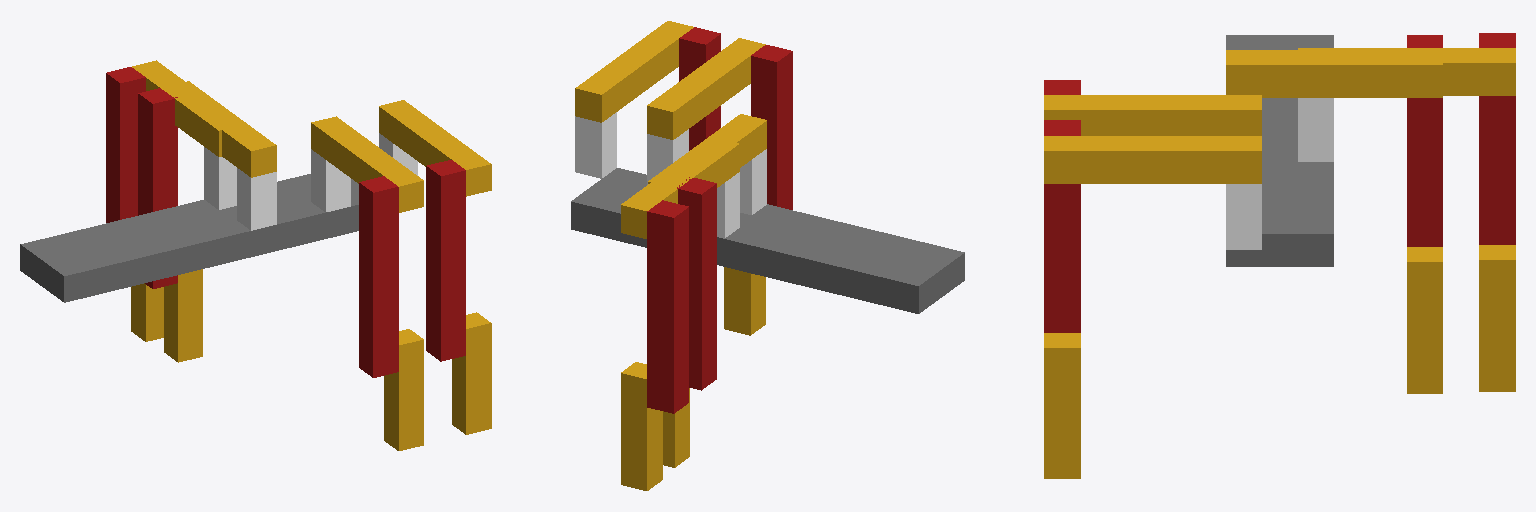
The robot description file, URDF, robot "v0":
<?xml version="1.0" encoding="utf-8"?>
<!-- =================================================================================== -->
<!-- |    This document was autogenerated by xacro from ../robots/v0variants/xacros/v0_4l_9.xacro | -->
<!-- |    EDITING THIS FILE BY HAND IS NOT RECOMMENDED                                 | -->
<!-- =================================================================================== -->
<robot name="v0">
  <material name="grey">
    <color rgba="0.5 0.5 0.5 1"/>
  </material>
  <material name="white">
    <color rgba="1 1 1 1"/>
  </material>
  <material name="yellow">
    <color rgba="0.91 0.7 0.14 1"/>
  </material>
  <material name="red">
    <color rgba="0.71 0.14 0.14 1"/>
  </material>
  <link name="body">
    <visual>
      <geometry>
        <box size="1.3 0.3 0.1"/>
      </geometry>
      <material name="grey"/>
      <origin rpy="0 0 0" xyz="0 0 0.7"/>
    </visual>
    <collision>
      <geometry>
        <box size="1.3 0.3 0.1"/>
      </geometry>
      <origin rpy="0 0 0" xyz="0 0 0.7"/>
    </collision>
    <inertial>
      <mass value="99.84"/>
      <inertia ixx="0.832" ixy="0.0" ixz="0.0" iyy="14.144" iyz="0.0" izz="14.8096"/>
    </inertial>
  </link>
  <link name="l1_segment_1">
    <visual>
      <geometry>
        <box size="0.1 0.1 0.2"/>
      </geometry>
      <material name="white"/>
      <origin rpy="0 0 0" xyz="0 0 0.1"/>
    </visual>
    <collision>
      <geometry>
        <box size="0.1 0.1 0.2"/>
      </geometry>
      <origin rpy="0 0 0" xyz="0 0 0.1"/>
    </collision>
    <inertial>
      <mass value="5.12"/>
      <inertia ixx="0.0213333333333" ixy="0.0" ixz="0.0" iyy="0.0213333333333" iyz="0.0" izz="0.00853333333333"/>
    </inertial>
  </link>
  <joint name="l1_base_to_joint_1" type="fixed">
    <parent link="body"/>
    <child link="l1_segment_1"/>
    <origin rpy="0 0 0" xyz="0.13859418409755442 -0.1 0.75"/>
  </joint>
  <link name="l1_segment_2_HIP">
    <visual>
      <geometry>
        <box size="0.1 0.6 0.1"/>
      </geometry>
      <material name="yellow"/>
      <origin rpy="0 0 0" xyz="0 0.25 0"/>
    </visual>
    <collision>
      <geometry>
        <box size="0.1 0.6 0.1"/>
      </geometry>
      <origin rpy="0 0 0" xyz="0 0.25 0"/>
    </collision>
    <inertial>
      <mass value="15.36"/>
      <inertia ixx="0.4736" ixy="0.0" ixz="0.0" iyy="0.0256" iyz="0.0" izz="0.4736"/>
    </inertial>
  </link>
  <joint name="l1_joint_1_to_2" type="revolute">
    <parent link="l1_segment_1"/>
    <child link="l1_segment_2_HIP"/>
    <origin rpy="0 0 0" xyz="0 0 0.25"/>
    <axis xyz="0.0 0.0 1.0"/>
    <limit effort="2048" lower="-1.2" upper="1.2" velocity="20"/>
  </joint>
  <link name="l1_segment_3_THIGH">
    <visual>
      <geometry>
        <box size="0.1 0.1 0.7"/>
      </geometry>
      <material name="red"/>
      <origin rpy="0 0 0" xyz="0 0 -0.3"/>
    </visual>
    <collision>
      <geometry>
        <box size="0.1 0.1 0.7"/>
      </geometry>
      <origin rpy="0 0 0" xyz="0 0 -0.3"/>
    </collision>
    <inertial>
      <mass value="17.92"/>
      <inertia ixx="0.746666666667" ixy="0.0" ixz="0.0" iyy="0.746666666667" iyz="0.0" izz="0.0298666666667"/>
    </inertial>
  </link>
  <joint name="l1_joint_2_to_3" type="revolute">
    <parent link="l1_segment_2_HIP"/>
    <child link="l1_segment_3_THIGH"/>
    <origin rpy="0 0 0" xyz="-0.1 0.5 0"/>
    <axis xyz="1.0 0.0 0.0"/>
    <limit effort="2048" lower="-0.2" upper="0.75" velocity="20"/>
  </joint>
  <link name="l1_segment_4_FOOT">
    <visual>
      <geometry>
        <box size="0.1 0.1 0.4"/>
      </geometry>
      <material name="yellow"/>
      <origin rpy="0 0 0" xyz="0 0 -0.2"/>
    </visual>
    <collision>
      <geometry>
        <box size="0.1 0.1 0.4"/>
      </geometry>
      <origin rpy="0 0 0" xyz="0 0 -0.2"/>
    </collision>
    <inertial>
      <mass value="10.24"/>
      <inertia ixx="0.145066666667" ixy="0.0" ixz="0.0" iyy="0.145066666667" iyz="0.0" izz="0.0170666666667"/>
    </inertial>
  </link>
  <joint name="l1_joint_3_to_4_FOOT" type="revolute">
    <parent link="l1_segment_3_THIGH"/>
    <child link="l1_segment_4_FOOT"/>
    <origin rpy="0 0 0" xyz="0.1 0 -0.55"/>
    <axis xyz="1.0 0.0 0.0"/>
    <limit effort="2048" lower="-0.2" upper="0.5" velocity="20"/>
  </joint>
  <link name="r2_segment_1">
    <visual>
      <geometry>
        <box size="0.1 0.1 0.2"/>
      </geometry>
      <material name="white"/>
      <origin rpy="0 0 0" xyz="0 0 0.1"/>
    </visual>
    <collision>
      <geometry>
        <box size="0.1 0.1 0.2"/>
      </geometry>
      <origin rpy="0 0 0" xyz="0 0 0.1"/>
    </collision>
    <inertial>
      <mass value="5.12"/>
      <inertia ixx="0.0213333333333" ixy="0.0" ixz="0.0" iyy="0.0213333333333" iyz="0.0" izz="0.00853333333333"/>
    </inertial>
  </link>
  <joint name="r2_base_to_joint_1" type="fixed">
    <parent link="body"/>
    <child link="r2_segment_1"/>
    <origin rpy="0 0 0" xyz="0.4325944631051284 -0.1 0.75"/>
  </joint>
  <link name="r2_segment_2_HIP">
    <visual>
      <geometry>
        <box size="0.1 0.6 0.1"/>
      </geometry>
      <material name="yellow"/>
      <origin rpy="0 0 0" xyz="0 -0.25 0"/>
    </visual>
    <collision>
      <geometry>
        <box size="0.1 0.6 0.1"/>
      </geometry>
      <origin rpy="0 0 0" xyz="0 -0.25 0"/>
    </collision>
    <inertial>
      <mass value="15.36"/>
      <inertia ixx="0.4736" ixy="0.0" ixz="0.0" iyy="0.0256" iyz="0.0" izz="0.4736"/>
    </inertial>
  </link>
  <joint name="r2_joint_1_to_2" type="revolute">
    <parent link="r2_segment_1"/>
    <child link="r2_segment_2_HIP"/>
    <origin rpy="0 0 0" xyz="0 0 0.25"/>
    <axis xyz="0.0 0.0 1.0"/>
    <limit effort="2048" lower="-1.2" upper="1.2" velocity="20"/>
  </joint>
  <link name="r2_segment_3_THIGH">
    <visual>
      <geometry>
        <box size="0.1 0.1 0.7"/>
      </geometry>
      <material name="red"/>
      <origin rpy="0 0 0" xyz="0 0 -0.3"/>
    </visual>
    <collision>
      <geometry>
        <box size="0.1 0.1 0.7"/>
      </geometry>
      <origin rpy="0 0 0" xyz="0 0 -0.3"/>
    </collision>
    <inertial>
      <mass value="17.92"/>
      <inertia ixx="0.746666666667" ixy="0.0" ixz="0.0" iyy="0.746666666667" iyz="0.0" izz="0.0298666666667"/>
    </inertial>
  </link>
  <joint name="r2_joint_2_to_3" type="revolute">
    <parent link="r2_segment_2_HIP"/>
    <child link="r2_segment_3_THIGH"/>
    <origin rpy="0 0 0" xyz="-0.1 -0.5 0"/>
    <axis xyz="1.0 0.0 0.0"/>
    <limit effort="2048" lower="-0.75" upper="0.2" velocity="20"/>
  </joint>
  <link name="r2_segment_4_FOOT">
    <visual>
      <geometry>
        <box size="0.1 0.1 0.4"/>
      </geometry>
      <material name="yellow"/>
      <origin rpy="0 0 0" xyz="0 0 -0.2"/>
    </visual>
    <collision>
      <geometry>
        <box size="0.1 0.1 0.4"/>
      </geometry>
      <origin rpy="0 0 0" xyz="0 0 -0.2"/>
    </collision>
    <inertial>
      <mass value="10.24"/>
      <inertia ixx="0.145066666667" ixy="0.0" ixz="0.0" iyy="0.145066666667" iyz="0.0" izz="0.0170666666667"/>
    </inertial>
  </link>
  <joint name="r2_joint_3_to_4_FOOT" type="revolute">
    <parent link="r2_segment_3_THIGH"/>
    <child link="r2_segment_4_FOOT"/>
    <origin rpy="0 0 0" xyz="0.1 0 -0.55"/>
    <axis xyz="1.0 0.0 0.0"/>
    <limit effort="2048" lower="-0.5" upper="0.2" velocity="20"/>
  </joint>
  <link name="l3_segment_1">
    <visual>
      <geometry>
        <box size="0.1 0.1 0.2"/>
      </geometry>
      <material name="white"/>
      <origin rpy="0 0 0" xyz="0 0 0.1"/>
    </visual>
    <collision>
      <geometry>
        <box size="0.1 0.1 0.2"/>
      </geometry>
      <origin rpy="0 0 0" xyz="0 0 0.1"/>
    </collision>
    <inertial>
      <mass value="5.12"/>
      <inertia ixx="0.0213333333333" ixy="0.0" ixz="0.0" iyy="0.0213333333333" iyz="0.0" izz="0.00853333333333"/>
    </inertial>
  </link>
  <joint name="l3_base_to_joint_1" type="fixed">
    <parent link="body"/>
    <child link="l3_segment_1"/>
    <origin rpy="0 0 0" xyz="0.12591115268739284 0.1 0.75"/>
  </joint>
  <link name="l3_segment_2_HIP">
    <visual>
      <geometry>
        <box size="0.1 0.6 0.1"/>
      </geometry>
      <material name="yellow"/>
      <origin rpy="0 0 0" xyz="0 0.25 0"/>
    </visual>
    <collision>
      <geometry>
        <box size="0.1 0.6 0.1"/>
      </geometry>
      <origin rpy="0 0 0" xyz="0 0.25 0"/>
    </collision>
    <inertial>
      <mass value="15.36"/>
      <inertia ixx="0.4736" ixy="0.0" ixz="0.0" iyy="0.0256" iyz="0.0" izz="0.4736"/>
    </inertial>
  </link>
  <joint name="l3_joint_1_to_2" type="revolute">
    <parent link="l3_segment_1"/>
    <child link="l3_segment_2_HIP"/>
    <origin rpy="0 0 0" xyz="0 0 0.25"/>
    <axis xyz="0.0 0.0 1.0"/>
    <limit effort="2048" lower="-1.2" upper="1.2" velocity="20"/>
  </joint>
  <link name="l3_segment_3_THIGH">
    <visual>
      <geometry>
        <box size="0.1 0.1 0.7"/>
      </geometry>
      <material name="red"/>
      <origin rpy="0 0 0" xyz="0 0 -0.3"/>
    </visual>
    <collision>
      <geometry>
        <box size="0.1 0.1 0.7"/>
      </geometry>
      <origin rpy="0 0 0" xyz="0 0 -0.3"/>
    </collision>
    <inertial>
      <mass value="17.92"/>
      <inertia ixx="0.746666666667" ixy="0.0" ixz="0.0" iyy="0.746666666667" iyz="0.0" izz="0.0298666666667"/>
    </inertial>
  </link>
  <joint name="l3_joint_2_to_3" type="revolute">
    <parent link="l3_segment_2_HIP"/>
    <child link="l3_segment_3_THIGH"/>
    <origin rpy="0 0 0" xyz="-0.1 0.5 0"/>
    <axis xyz="1.0 0.0 0.0"/>
    <limit effort="2048" lower="-0.2" upper="0.75" velocity="20"/>
  </joint>
  <link name="l3_segment_4_FOOT">
    <visual>
      <geometry>
        <box size="0.1 0.1 0.4"/>
      </geometry>
      <material name="yellow"/>
      <origin rpy="0 0 0" xyz="0 0 -0.2"/>
    </visual>
    <collision>
      <geometry>
        <box size="0.1 0.1 0.4"/>
      </geometry>
      <origin rpy="0 0 0" xyz="0 0 -0.2"/>
    </collision>
    <inertial>
      <mass value="10.24"/>
      <inertia ixx="0.145066666667" ixy="0.0" ixz="0.0" iyy="0.145066666667" iyz="0.0" izz="0.0170666666667"/>
    </inertial>
  </link>
  <joint name="l3_joint_3_to_4_FOOT" type="revolute">
    <parent link="l3_segment_3_THIGH"/>
    <child link="l3_segment_4_FOOT"/>
    <origin rpy="0 0 0" xyz="0.1 0 -0.55"/>
    <axis xyz="1.0 0.0 0.0"/>
    <limit effort="2048" lower="-0.2" upper="0.5" velocity="20"/>
  </joint>
  <link name="r4_segment_1">
    <visual>
      <geometry>
        <box size="0.1 0.1 0.2"/>
      </geometry>
      <material name="white"/>
      <origin rpy="0 0 0" xyz="0 0 0.1"/>
    </visual>
    <collision>
      <geometry>
        <box size="0.1 0.1 0.2"/>
      </geometry>
      <origin rpy="0 0 0" xyz="0 0 0.1"/>
    </collision>
    <inertial>
      <mass value="5.12"/>
      <inertia ixx="0.0213333333333" ixy="0.0" ixz="0.0" iyy="0.0213333333333" iyz="0.0" izz="0.00853333333333"/>
    </inertial>
  </link>
  <joint name="r4_base_to_joint_1" type="fixed">
    <parent link="body"/>
    <child link="r4_segment_1"/>
    <origin rpy="0 0 0" xyz="0.6992912733504011 -0.1 0.75"/>
  </joint>
  <link name="r4_segment_2_HIP">
    <visual>
      <geometry>
        <box size="0.1 0.6 0.1"/>
      </geometry>
      <material name="yellow"/>
      <origin rpy="0 0 0" xyz="0 -0.25 0"/>
    </visual>
    <collision>
      <geometry>
        <box size="0.1 0.6 0.1"/>
      </geometry>
      <origin rpy="0 0 0" xyz="0 -0.25 0"/>
    </collision>
    <inertial>
      <mass value="15.36"/>
      <inertia ixx="0.4736" ixy="0.0" ixz="0.0" iyy="0.0256" iyz="0.0" izz="0.4736"/>
    </inertial>
  </link>
  <joint name="r4_joint_1_to_2" type="revolute">
    <parent link="r4_segment_1"/>
    <child link="r4_segment_2_HIP"/>
    <origin rpy="0 0 0" xyz="0 0 0.25"/>
    <axis xyz="0.0 0.0 1.0"/>
    <limit effort="2048" lower="-1.2" upper="1.2" velocity="20"/>
  </joint>
  <link name="r4_segment_3_THIGH">
    <visual>
      <geometry>
        <box size="0.1 0.1 0.7"/>
      </geometry>
      <material name="red"/>
      <origin rpy="0 0 0" xyz="0 0 -0.3"/>
    </visual>
    <collision>
      <geometry>
        <box size="0.1 0.1 0.7"/>
      </geometry>
      <origin rpy="0 0 0" xyz="0 0 -0.3"/>
    </collision>
    <inertial>
      <mass value="17.92"/>
      <inertia ixx="0.746666666667" ixy="0.0" ixz="0.0" iyy="0.746666666667" iyz="0.0" izz="0.0298666666667"/>
    </inertial>
  </link>
  <joint name="r4_joint_2_to_3" type="revolute">
    <parent link="r4_segment_2_HIP"/>
    <child link="r4_segment_3_THIGH"/>
    <origin rpy="0 0 0" xyz="-0.1 -0.5 0"/>
    <axis xyz="1.0 0.0 0.0"/>
    <limit effort="2048" lower="-0.75" upper="0.2" velocity="20"/>
  </joint>
  <link name="r4_segment_4_FOOT">
    <visual>
      <geometry>
        <box size="0.1 0.1 0.4"/>
      </geometry>
      <material name="yellow"/>
      <origin rpy="0 0 0" xyz="0 0 -0.2"/>
    </visual>
    <collision>
      <geometry>
        <box size="0.1 0.1 0.4"/>
      </geometry>
      <origin rpy="0 0 0" xyz="0 0 -0.2"/>
    </collision>
    <inertial>
      <mass value="10.24"/>
      <inertia ixx="0.145066666667" ixy="0.0" ixz="0.0" iyy="0.145066666667" iyz="0.0" izz="0.0170666666667"/>
    </inertial>
  </link>
  <joint name="r4_joint_3_to_4_FOOT" type="revolute">
    <parent link="r4_segment_3_THIGH"/>
    <child link="r4_segment_4_FOOT"/>
    <origin rpy="0 0 0" xyz="0.1 0 -0.55"/>
    <axis xyz="1.0 0.0 0.0"/>
    <limit effort="2048" lower="-0.5" upper="0.2" velocity="20"/>
  </joint>
</robot>

--- What the picture shows (computed from the rendered views, not written in the file) ---
3 views of the same robot in one strip: view 1: azimuth 30°, elevation 25°; view 2: azimuth 150°, elevation 25°; view 3: azimuth 270°, elevation 25° (orthographic).
Robot: v0 — 17 links, 16 joints (12 revolute, 4 fixed); root link body; default pose: every joint at zero.
Links seen in each view (by area): view 1: body, r2_segment_3_THIGH, r4_segment_3_THIGH, l3_segment_3_THIGH, l1_segment_3_THIGH, r4_segment_2_HIP, r2_segment_2_HIP, r4_segment_4_FOOT, r2_segment_4_FOOT, l3_segment_2_HIP, l1_segment_4_FOOT, l1_segment_2_HIP (+5 smaller); view 2: body, l3_segment_3_THIGH, l1_segment_3_THIGH, r2_segment_2_HIP, r4_segment_2_HIP, r2_segment_3_THIGH, l3_segment_4_FOOT, l3_segment_2_HIP, r2_segment_4_FOOT, r4_segment_1, r4_segment_3_THIGH, l1_segment_2_HIP (+4 smaller); view 3: body, r4_segment_2_HIP, l1_segment_2_HIP, r2_segment_2_HIP, r4_segment_3_THIGH, l3_segment_3_THIGH, l1_segment_3_THIGH, l3_segment_2_HIP, l3_segment_4_FOOT, r4_segment_4_FOOT, l1_segment_4_FOOT, r4_segment_1 (+2 smaller).
Boxes of the visible links, x1,y1,x2,y2 form: body: [20, 174, 358, 302]; r2_segment_3_THIGH: [359, 176, 398, 377]; r4_segment_3_THIGH: [426, 160, 465, 361]; l3_segment_3_THIGH: [106, 67, 145, 222]; l1_segment_3_THIGH: [138, 88, 177, 288]; r4_segment_2_HIP: [379, 100, 491, 196]; r2_segment_2_HIP: [311, 116, 423, 212]; r4_segment_4_FOOT: [452, 312, 491, 434]; r2_segment_4_FOOT: [384, 329, 423, 450]; l3_segment_2_HIP: [132, 60, 243, 156]; l1_segment_4_FOOT: [164, 269, 202, 362]; l1_segment_2_HIP: [187, 81, 276, 177]; body: [571, 168, 964, 313]; l3_segment_3_THIGH: [647, 200, 688, 413]; l1_segment_3_THIGH: [677, 177, 716, 390]; r2_segment_2_HIP: [647, 38, 765, 139]; r4_segment_2_HIP: [575, 21, 693, 122]; r2_segment_3_THIGH: [751, 45, 792, 209]; l3_segment_4_FOOT: [621, 362, 662, 490]; l3_segment_2_HIP: [621, 137, 739, 238]; r2_segment_4_FOOT: [724, 267, 765, 335]; r4_segment_1: [575, 112, 616, 178]; r4_segment_3_THIGH: [679, 27, 720, 150]; l1_segment_2_HIP: [648, 114, 766, 187]; body: [1226, 35, 1333, 266]; r4_segment_2_HIP: [1044, 136, 1261, 183]; l1_segment_2_HIP: [1226, 50, 1442, 97]; r2_segment_2_HIP: [1044, 95, 1261, 135]; r4_segment_3_THIGH: [1044, 120, 1080, 332]; l3_segment_3_THIGH: [1479, 33, 1515, 244]; l1_segment_3_THIGH: [1407, 35, 1442, 246]; l3_segment_2_HIP: [1298, 48, 1515, 95]; l3_segment_4_FOOT: [1479, 245, 1515, 391]; r4_segment_4_FOOT: [1044, 333, 1080, 478]; l1_segment_4_FOOT: [1407, 247, 1442, 393]; r4_segment_1: [1226, 184, 1261, 249].
Size in the robot's own frame: 1.4 by 1.3 by 1 metres.
Geometry: primitives only (box / cylinder / sphere), no mesh files.